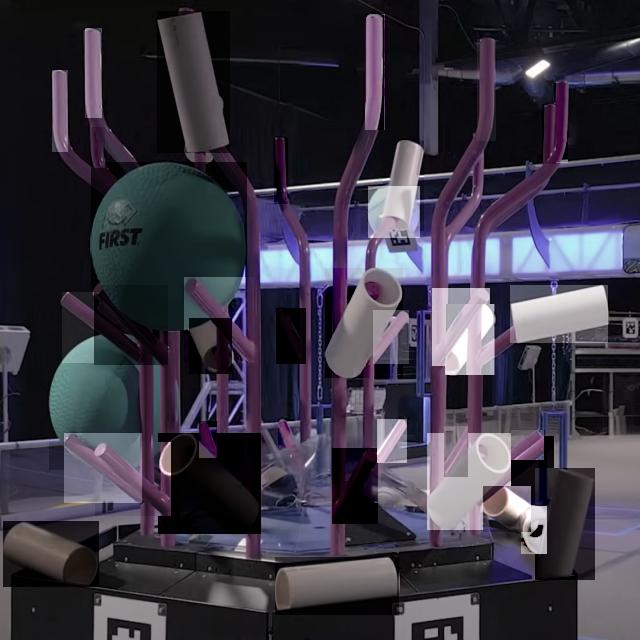Algae: (91, 162, 247, 331), (49, 332, 179, 470), (368, 186, 420, 238)
Coral: (158, 433, 261, 534), (157, 11, 230, 153), (325, 268, 403, 378), (427, 433, 511, 530), (276, 557, 400, 615), (535, 468, 595, 580), (3, 521, 99, 587), (511, 285, 608, 343), (383, 141, 424, 231), (446, 304, 496, 375), (189, 318, 232, 374), (483, 486, 531, 532), (521, 506, 547, 554)
Reef: (184, 277, 254, 363), (94, 285, 168, 365), (95, 442, 171, 516), (62, 292, 140, 363), (64, 433, 142, 503), (480, 436, 554, 505), (432, 288, 490, 366), (332, 448, 378, 524), (366, 14, 386, 130), (373, 310, 409, 364), (477, 39, 496, 141), (276, 308, 306, 364), (85, 28, 102, 118), (377, 419, 407, 463), (52, 70, 68, 152), (444, 426, 468, 477), (554, 84, 568, 164), (512, 430, 546, 460), (274, 138, 288, 204), (542, 104, 556, 164), (199, 421, 217, 458), (90, 127, 105, 168), (472, 149, 484, 196), (278, 419, 294, 450)
